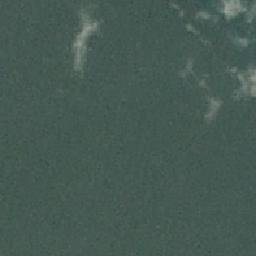cloud: (70, 22, 101, 75), (218, 1, 246, 35), (231, 60, 254, 99), (204, 92, 221, 126)
